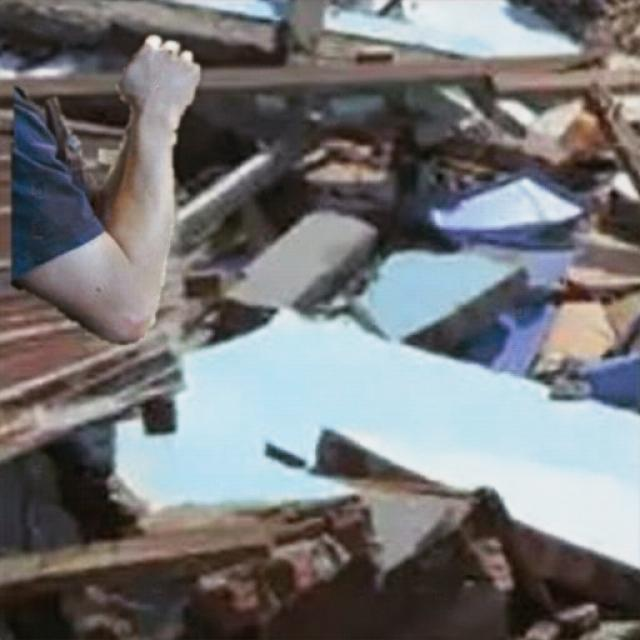Person in Rubble: (11, 35, 199, 344)
